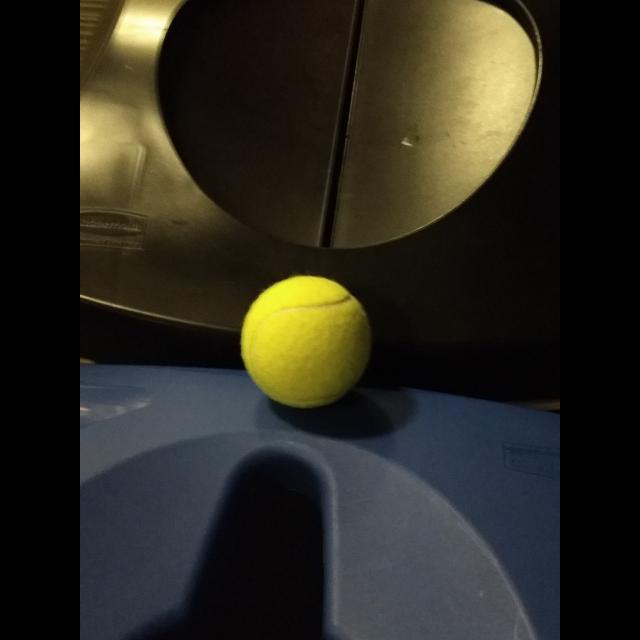tennis ball: (239, 274, 373, 411)
